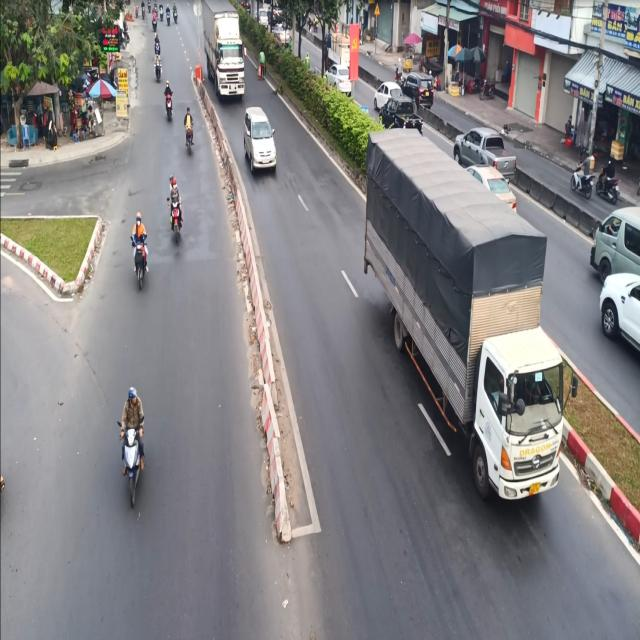car: (243, 102, 281, 172)
motor: (120, 379, 149, 510), (129, 212, 152, 290), (167, 176, 187, 245), (183, 100, 194, 152)
truck: (358, 126, 570, 533), (202, 0, 248, 102)
